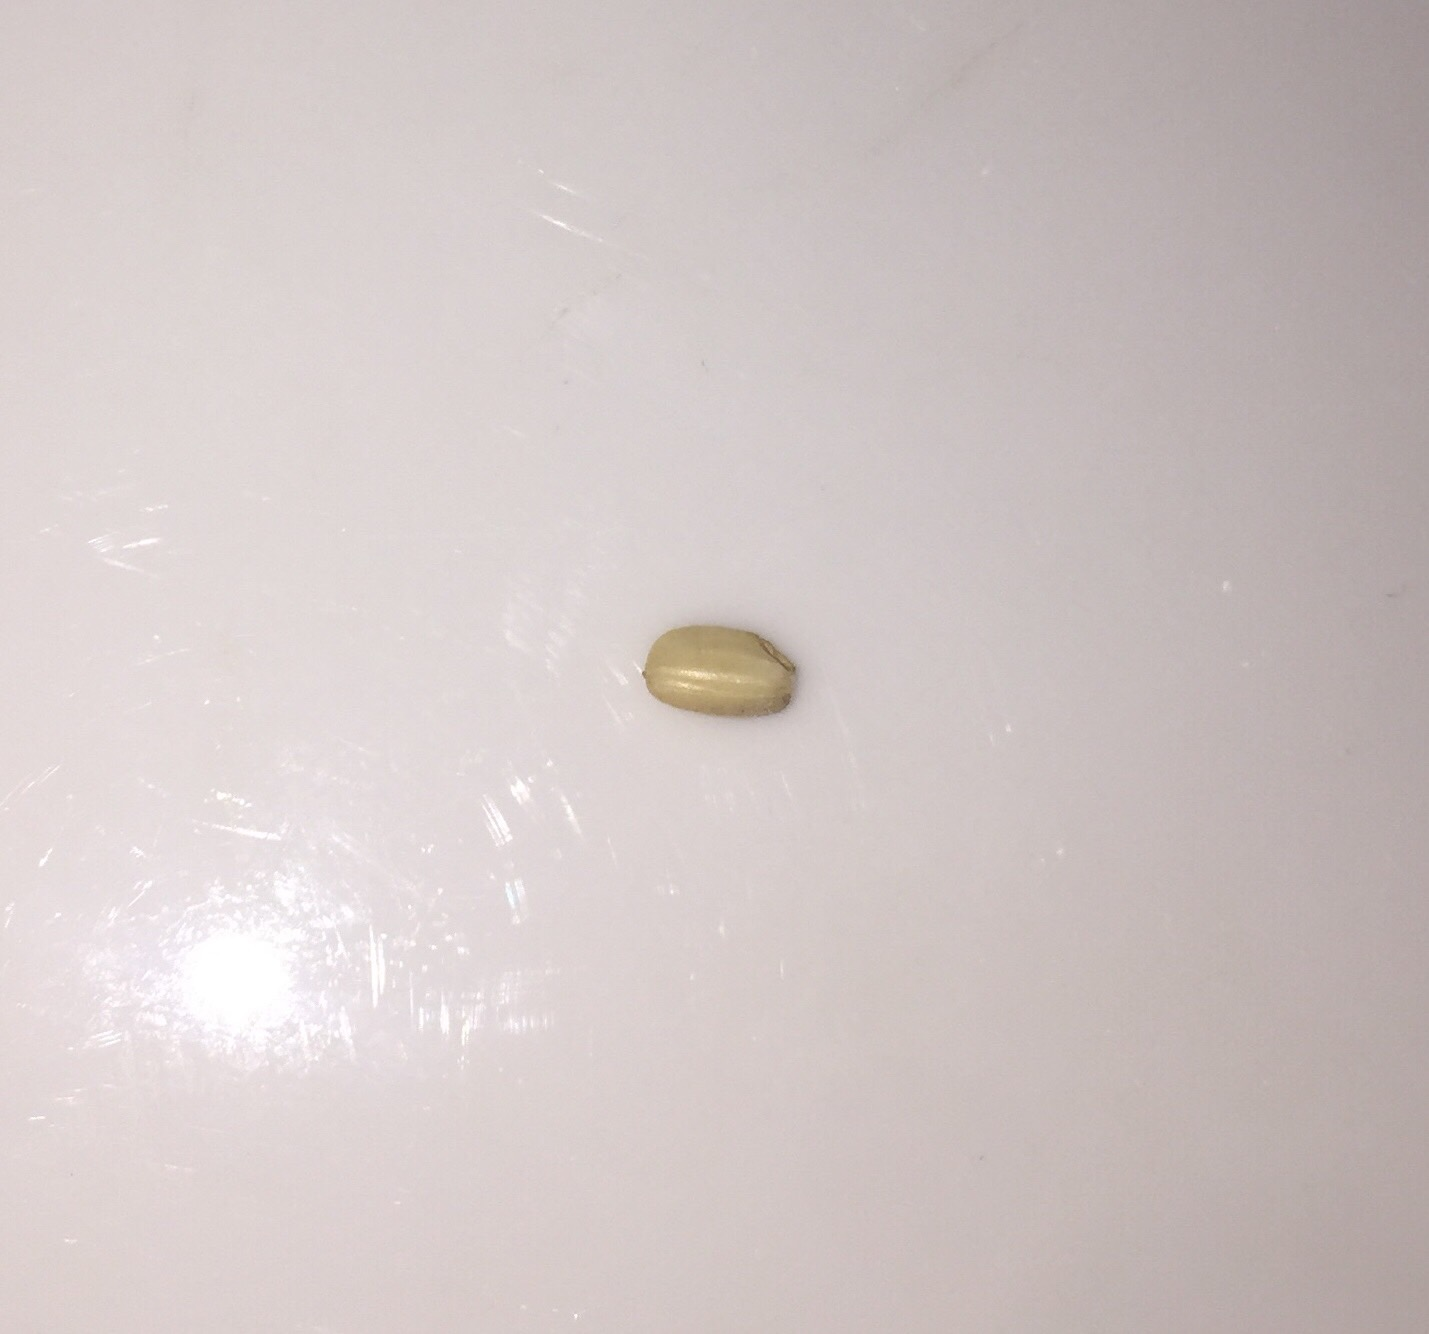Gao Lut Bac: (636, 611, 802, 730)
